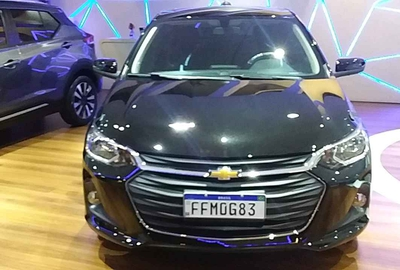Frontal Veiculo: (82, 8, 372, 253)
